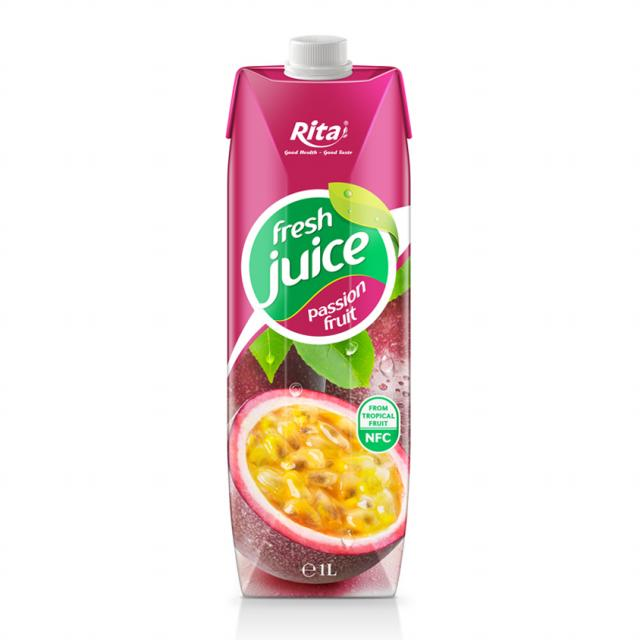non_white_jug: (215, 32, 414, 598)
